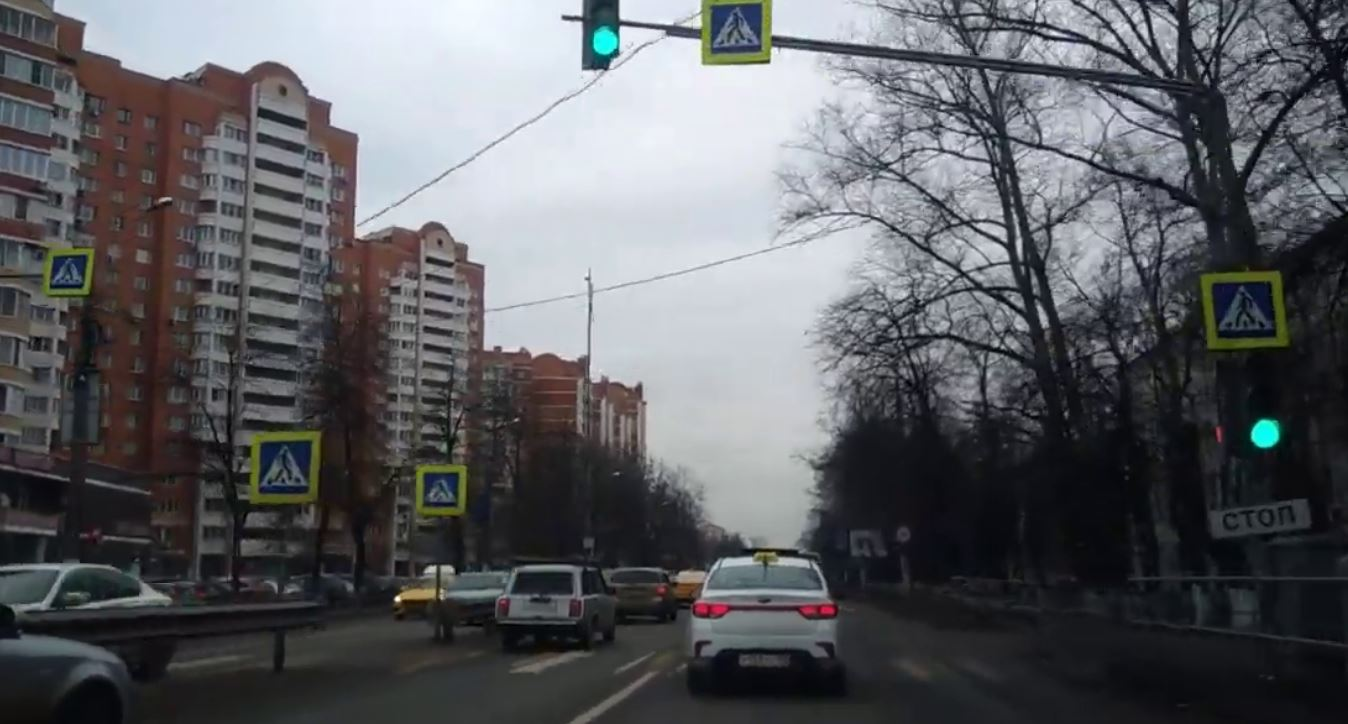Yaya Gecidi: (1209, 278, 1280, 335), (709, 5, 769, 54), (262, 445, 312, 497), (420, 469, 464, 505), (51, 255, 82, 293)
